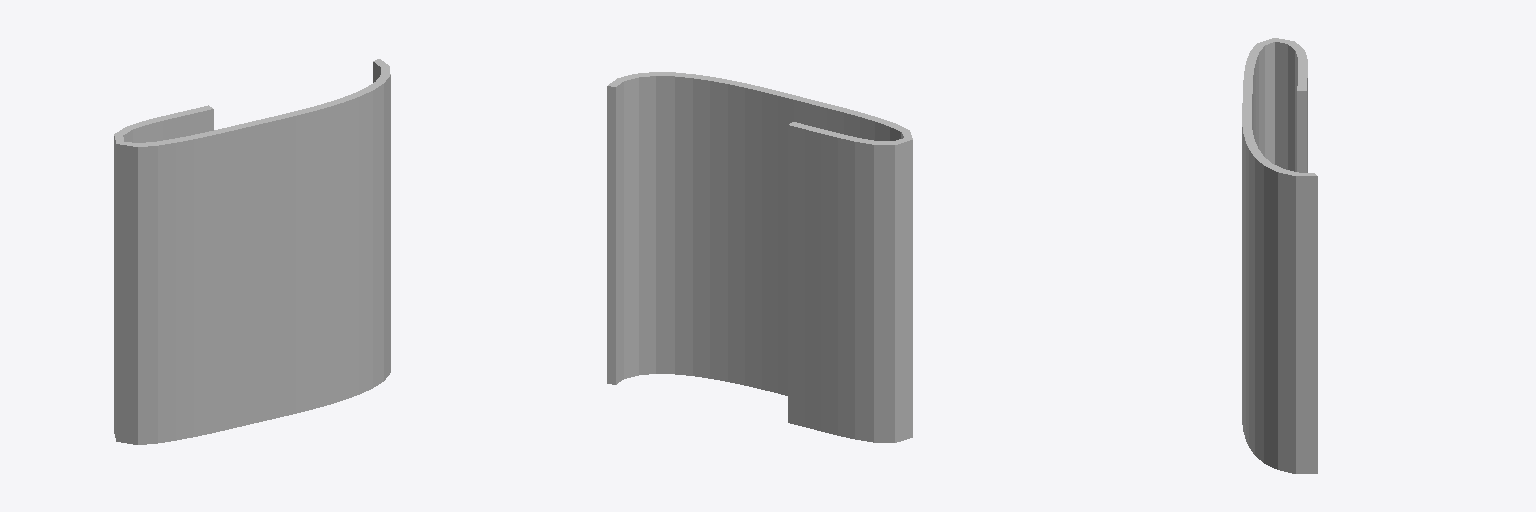
File: Scroll4.obj
3 renders of one model, left to right at view 1: azimuth 30°, elevation 25°; view 2: azimuth 150°, elevation 25°; view 3: azimuth 270°, elevation 25°, orthographic.
Visible parts, largest first — view 1: Cube_Cube.001; view 2: Cube_Cube.001; view 3: Cube_Cube.001.
Boxes of the visible parts, x1=… form: Cube_Cube.001: x1=114, y1=59, x2=390, y2=444; Cube_Cube.001: x1=607, y1=72, x2=912, y2=442; Cube_Cube.001: x1=1242, y1=38, x2=1317, y2=473.
Bounding box in the file's own units: 4.62 × 4.62 × 1.07.